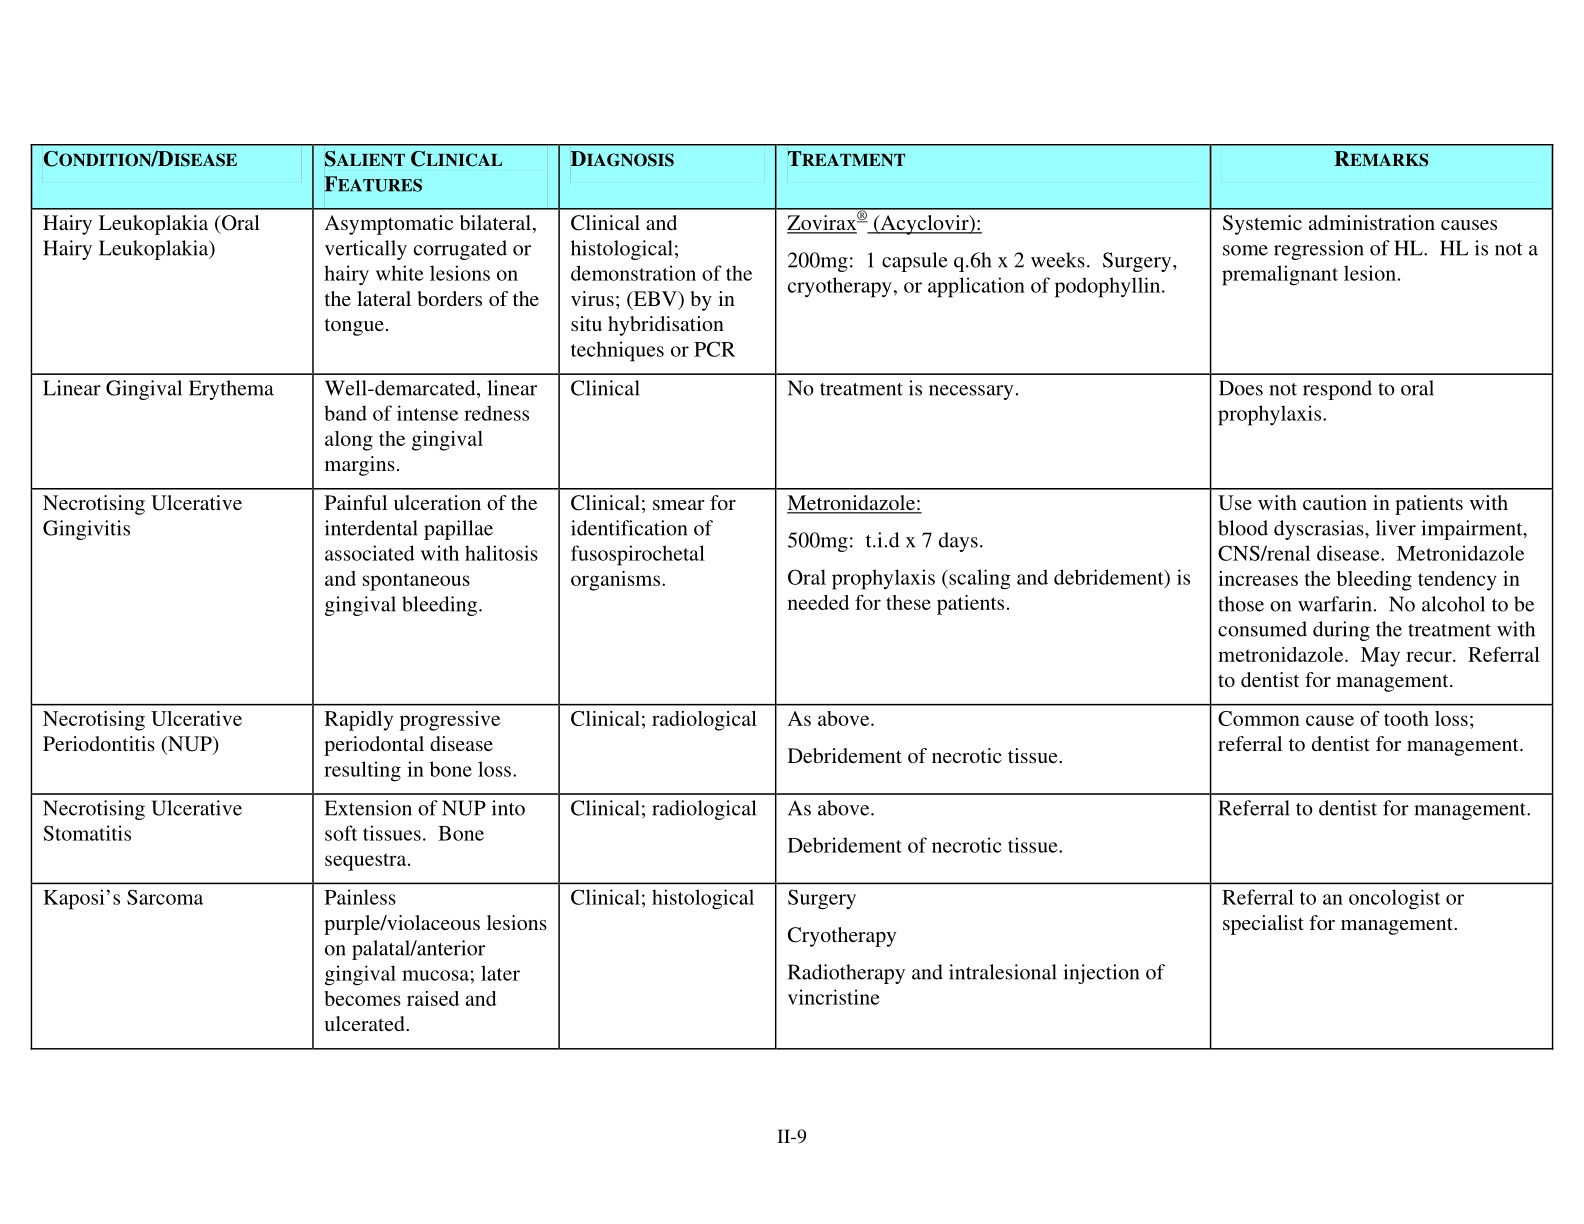full_lined: (30, 144, 1554, 1050)
